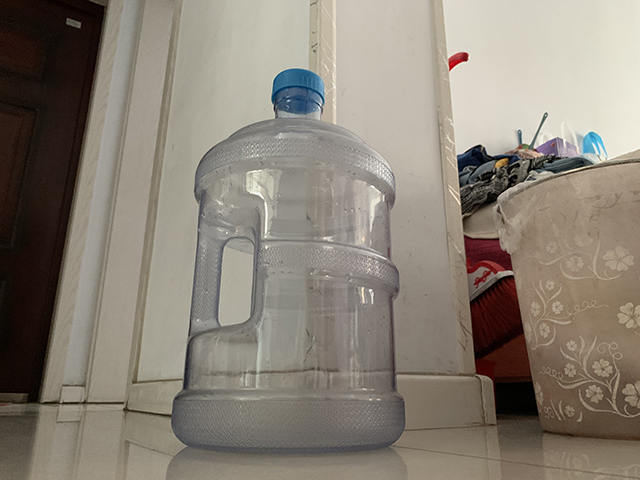trashcan: (492, 158, 640, 442)
